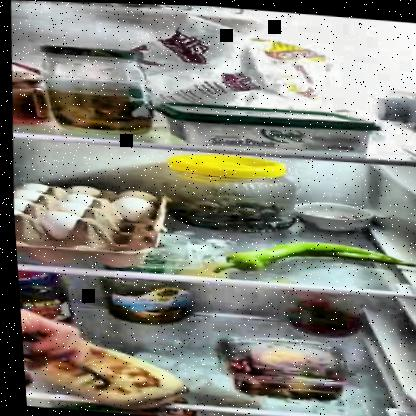cream_cheese: (157, 99, 368, 153)
eggs: (9, 181, 154, 245)
green_chillies: (207, 235, 405, 284)
olives: (163, 189, 292, 231)
